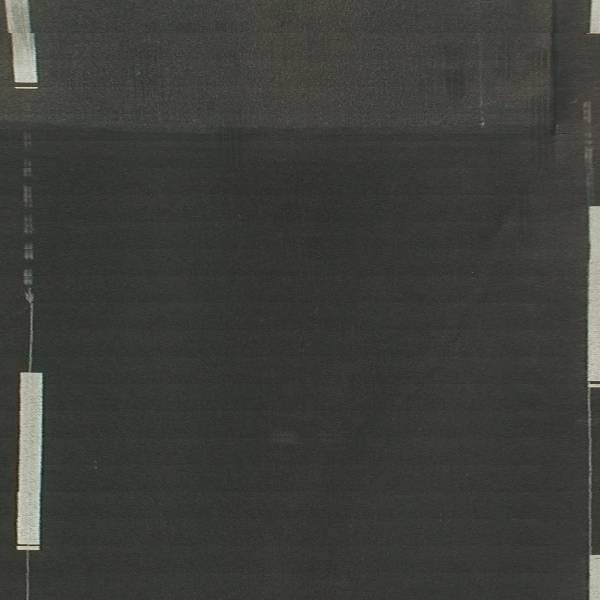road_damage: (44, 58, 574, 153)
